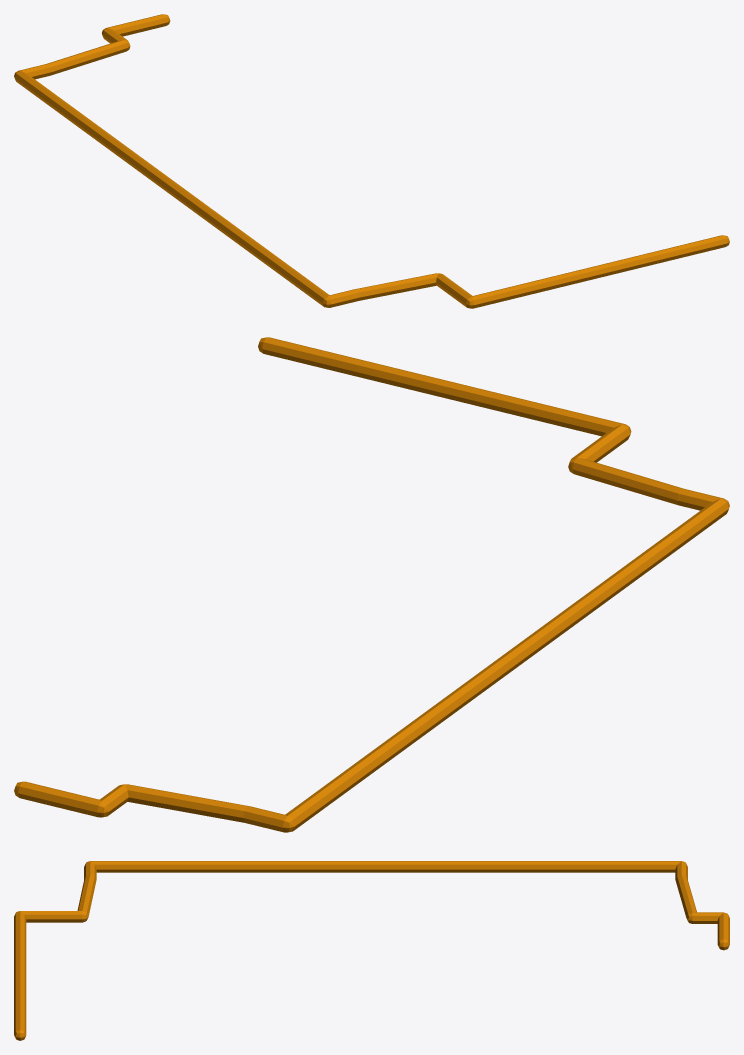
The picture shows the model from 3 angles, top to bottom: view 1: azimuth 30°, elevation 25°; view 2: azimuth 150°, elevation 25°; view 3: azimuth 270°, elevation 25°; orthographic projection. The views are drawn at different scales.
Bounding box in the file's own units: 660 × 20 × 1150.
